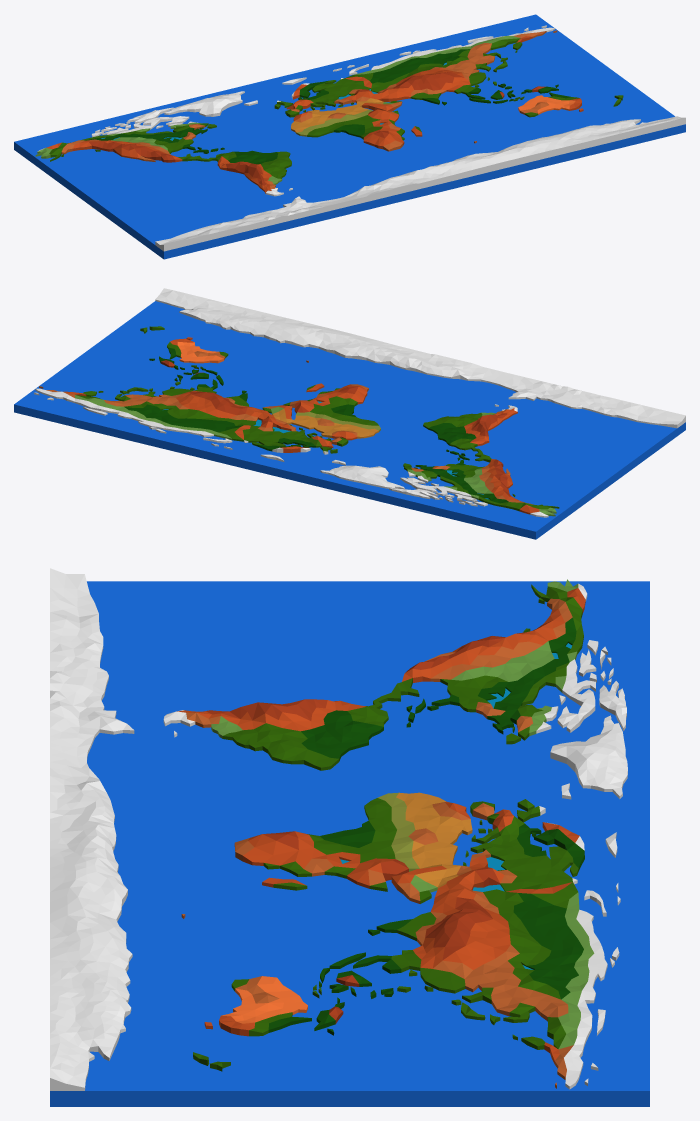
The model's file is WorldMap_Unity.FBX.
3 renders of one model, top to bottom at view 1: azimuth 30°, elevation 25°; view 2: azimuth 150°, elevation 25°; view 3: azimuth 270°, elevation 25°, orthographic. The views are drawn at different scales.
Parts seen in each view (by area): view 1: WorldMap_Water, WorldMap_Landscape, WorldMap_Antarctica; view 2: WorldMap_Water, WorldMap_Landscape, WorldMap_Antarctica; view 3: WorldMap_Water, WorldMap_Landscape, WorldMap_Antarctica.
Boxes of the visible parts, x1,y1,x2,y2 form: WorldMap_Water: (14,14,685,259); WorldMap_Landscape: (35,25,623,196); WorldMap_Antarctica: (155,116,685,251); WorldMap_Water: (14,301,685,539); WorldMap_Landscape: (34,326,559,517); WorldMap_Antarctica: (155,288,685,428); WorldMap_Water: (50,581,649,1106); WorldMap_Landscape: (163,579,627,1089); WorldMap_Antarctica: (50,568,134,1090).
Size of the model in its own units: 205 by 102 by 7.36.
